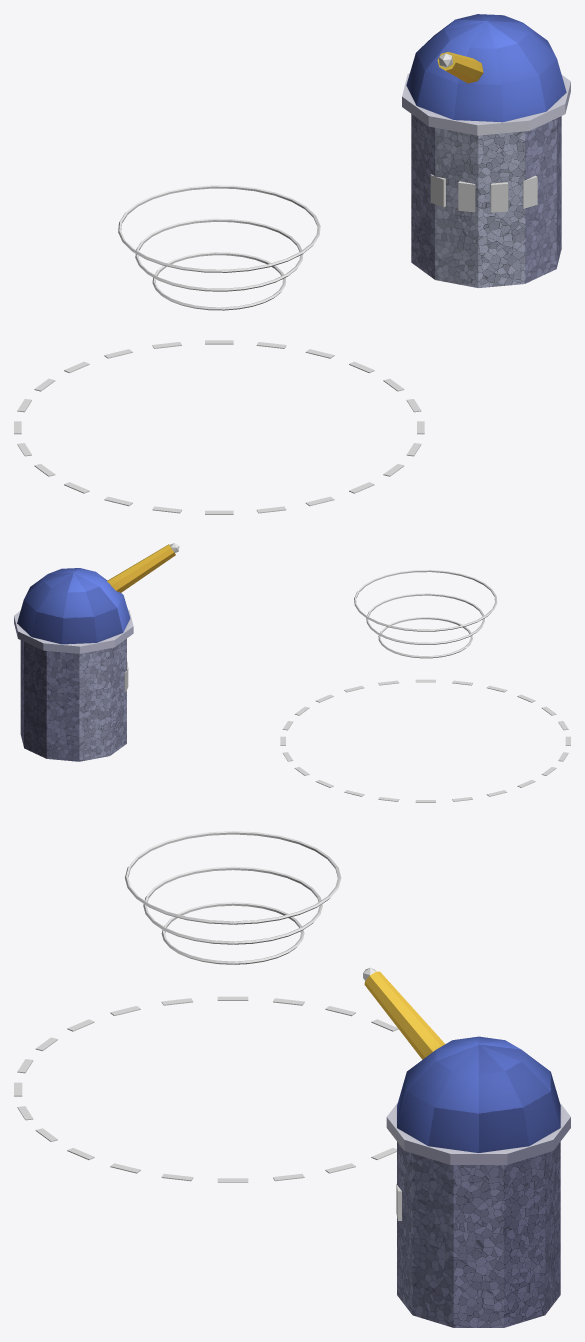
The model's file is area_library_5_5.fbx.
The picture shows the model from 3 angles, top to bottom: view 1: azimuth 30°, elevation 25°; view 2: azimuth 150°, elevation 25°; view 3: azimuth 270°, elevation 25°; orthographic projection. The views are drawn at different scales.
Parts seen in each view (by area): view 1: area_library_5_5_body, area_library_5_5_body3_glow, area_library_5_5_body2_glow, area_library_5_5_body_glow; view 2: area_library_5_5_body, area_library_5_5_body3_glow, area_library_5_5_body2_glow; view 3: area_library_5_5_body, area_library_5_5_body3_glow, area_library_5_5_body2_glow.
Part boxes in pixels (x1,y1,x2,y2): area_library_5_5_body: (402, 14, 570, 288); area_library_5_5_body3_glow: (118, 185, 320, 310); area_library_5_5_body2_glow: (14, 53, 452, 514); area_library_5_5_body_glow: (430, 174, 537, 212); area_library_5_5_body: (14, 544, 175, 761); area_library_5_5_body3_glow: (354, 569, 497, 658); area_library_5_5_body2_glow: (170, 543, 570, 802); area_library_5_5_body: (364, 971, 570, 1327); area_library_5_5_body3_glow: (125, 831, 341, 964); area_library_5_5_body2_glow: (14, 967, 398, 1182).
Bounding box in the file's own units: 9495 × 3768 × 6800.
2 materials, 1 textured.
